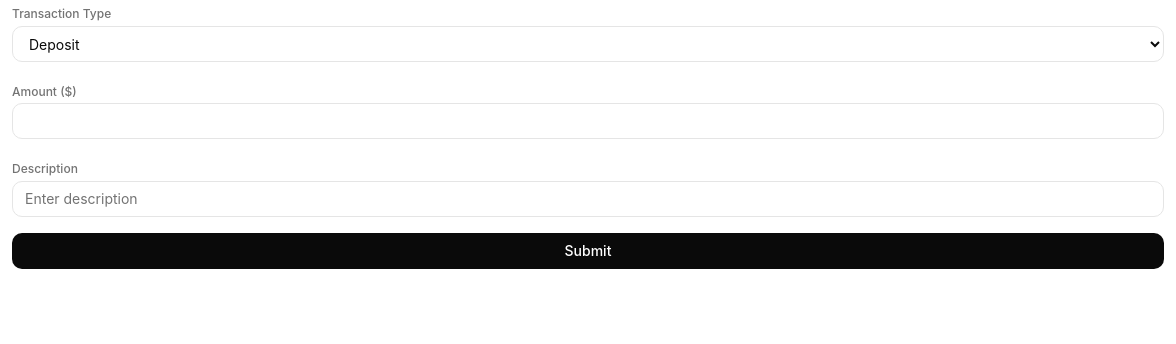
TransactionForm › displays error message on API failure
The width and height of the screenshot is (1176, 344).
Type "100" into the number field labelled "Amount ($)".
click(588, 121); type("100")  # box [12, 103, 1164, 139]
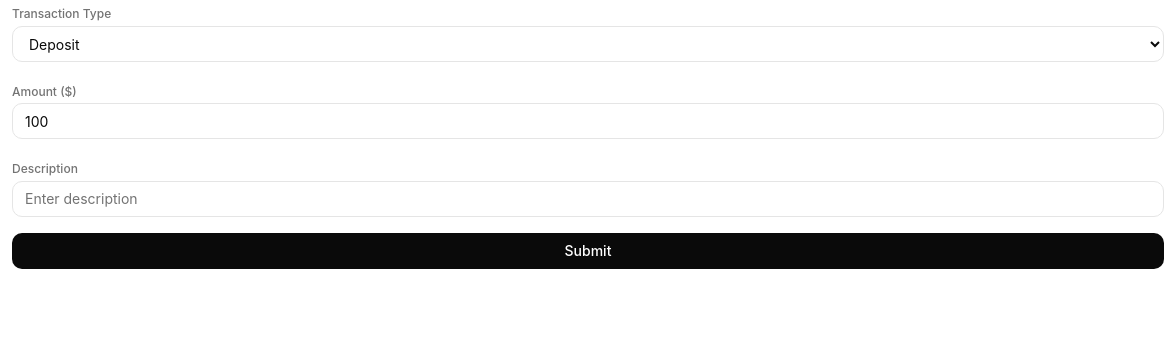
Type "Test deposit" into the field labelled "Description".
click(588, 199); type("Test deposit")  # box [12, 181, 1164, 217]
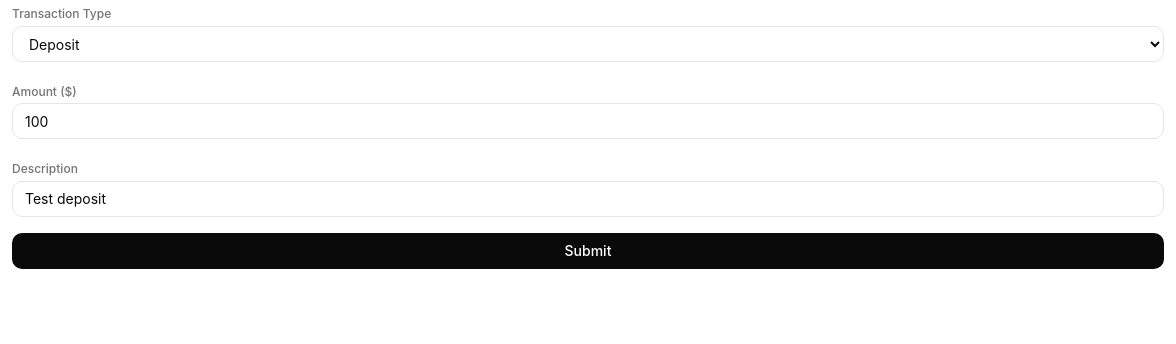
Click the button "Submit".
click(588, 251)  # box [12, 233, 1164, 269]
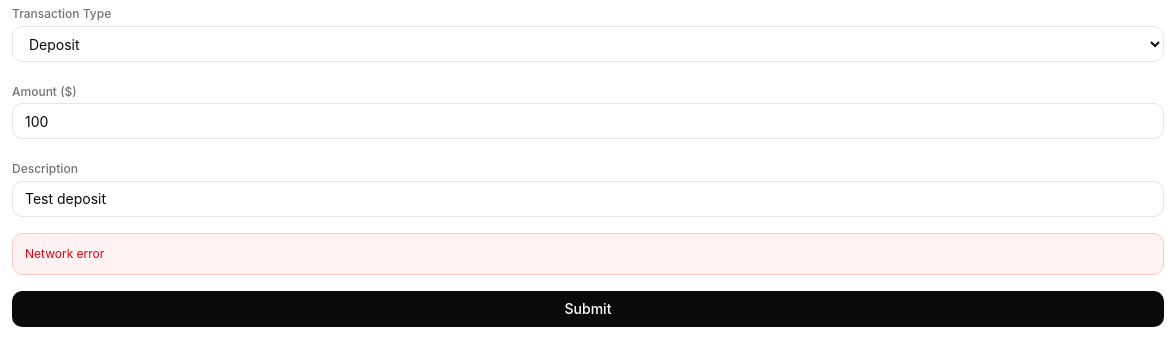
Now the text "Network error" is shown, box [25, 246, 104, 261]
